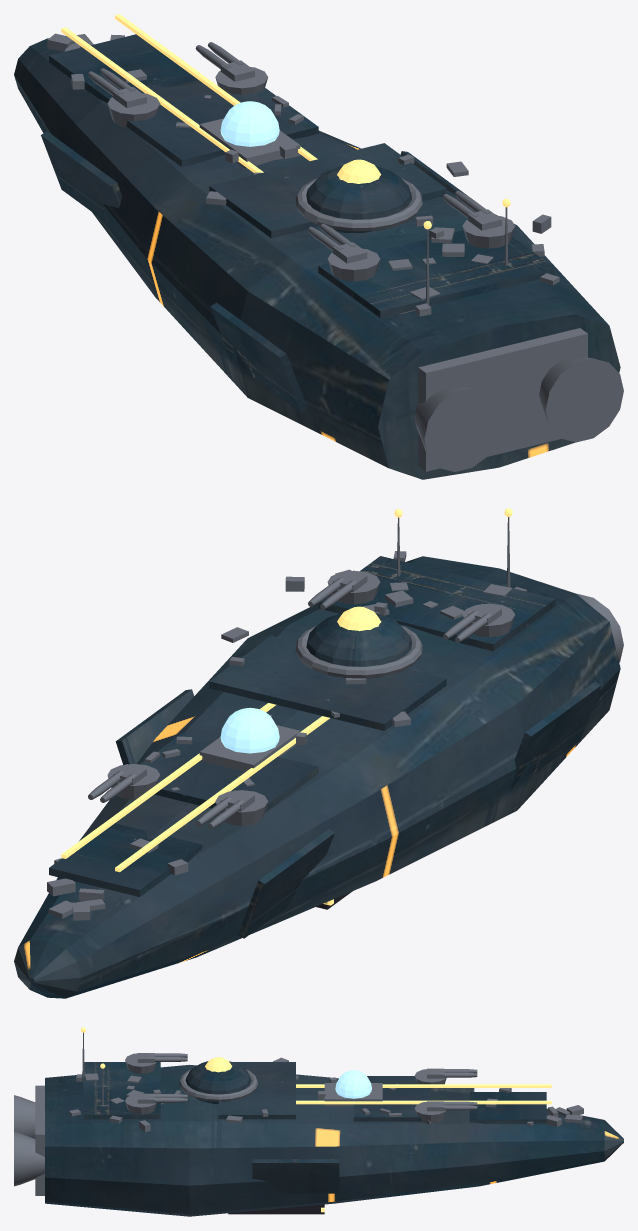
Rendered from frigate.glb.
3 views of the same model, one above another, from view 1: azimuth 30°, elevation 25°; view 2: azimuth 150°, elevation 25°; view 3: azimuth 270°, elevation 25° (orthographic). The views are drawn at different scales.
Visible parts, largest first — view 1: Hull, ArmorPlates, EngineBlock, Greebles, ShieldDome, TurretBases, EnergyStrips, Core, ShieldRing, CoreGrille, turret_1_barrels, turret_3_barrels (+3 smaller); view 2: Hull, ArmorPlates, Greebles, ShieldDome, TurretBases, EnergyStrips, Core, ShieldRing, CoreGrille, turret_3_barrels, turret_2_barrels, turret_1_barrels (+3 smaller); view 3: Hull, ArmorPlates, EngineBlock, Greebles, EnergyStrips, ShieldDome, TurretBases, Core, ShieldRing, CoreGrille, Hangars, turret_4_barrels (+4 smaller).
Boxes of the visible parts, x1,y1,x2,y2 form: Hull: (14, 38, 620, 479); ArmorPlates: (41, 34, 555, 412); EngineBlock: (414, 328, 623, 471); Greebles: (47, 33, 559, 316); ShieldDome: (306, 166, 411, 232); TurretBases: (107, 67, 515, 281); EnergyStrips: (61, 14, 317, 172); Core: (220, 101, 279, 146); ShieldRing: (295, 178, 422, 231); CoreGrille: (199, 118, 300, 168); turret_1_barrels: (308, 224, 367, 263); turret_3_barrels: (88, 68, 146, 107); Hull: (14, 556, 620, 998); ArmorPlates: (49, 556, 601, 938); Greebles: (47, 551, 526, 920); ShieldDome: (306, 613, 411, 677); TurretBases: (107, 570, 514, 825); EnergyStrips: (61, 703, 329, 872); Core: (220, 707, 279, 753); ShieldRing: (295, 625, 422, 678); CoreGrille: (199, 725, 300, 771); turret_3_barrels: (196, 790, 254, 829); turret_2_barrels: (308, 571, 367, 609); turret_1_barrels: (443, 604, 501, 642); Hull: (45, 1064, 623, 1216); ArmorPlates: (83, 1062, 546, 1193); EngineBlock: (14, 1085, 44, 1195); Greebles: (69, 1057, 583, 1131); EnergyStrips: (296, 1084, 551, 1104); ShieldDome: (185, 1061, 251, 1103); TurretBases: (125, 1053, 446, 1123); Core: (335, 1070, 371, 1098); ShieldRing: (179, 1069, 257, 1101); CoreGrille: (324, 1083, 382, 1106); Hangars: (228, 1204, 324, 1214); turret_4_barrels: (427, 1101, 477, 1111).
Bounding box in the file's own units: 22.91 × 18.1 × 63.2.
6 materials, 2 textured.
